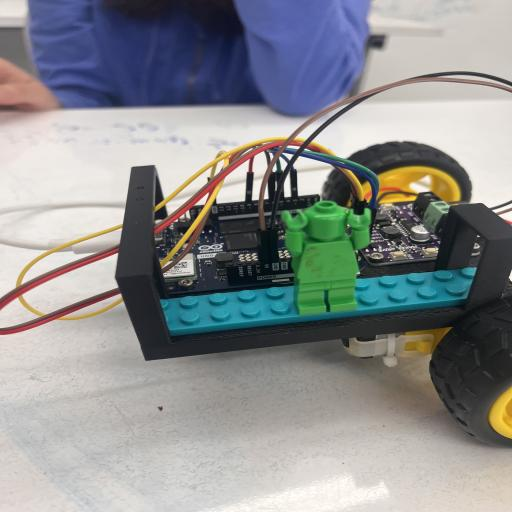Lego-Minifig: (282, 201, 371, 315)
